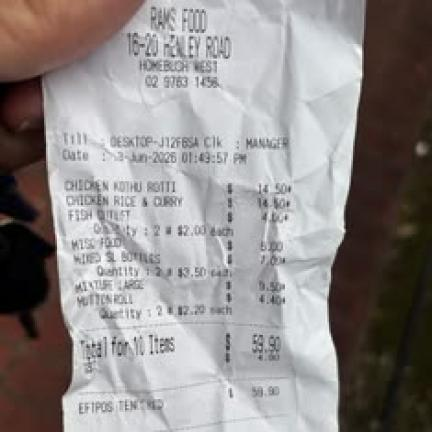receipt-in-hand: (45, 0, 363, 431)
